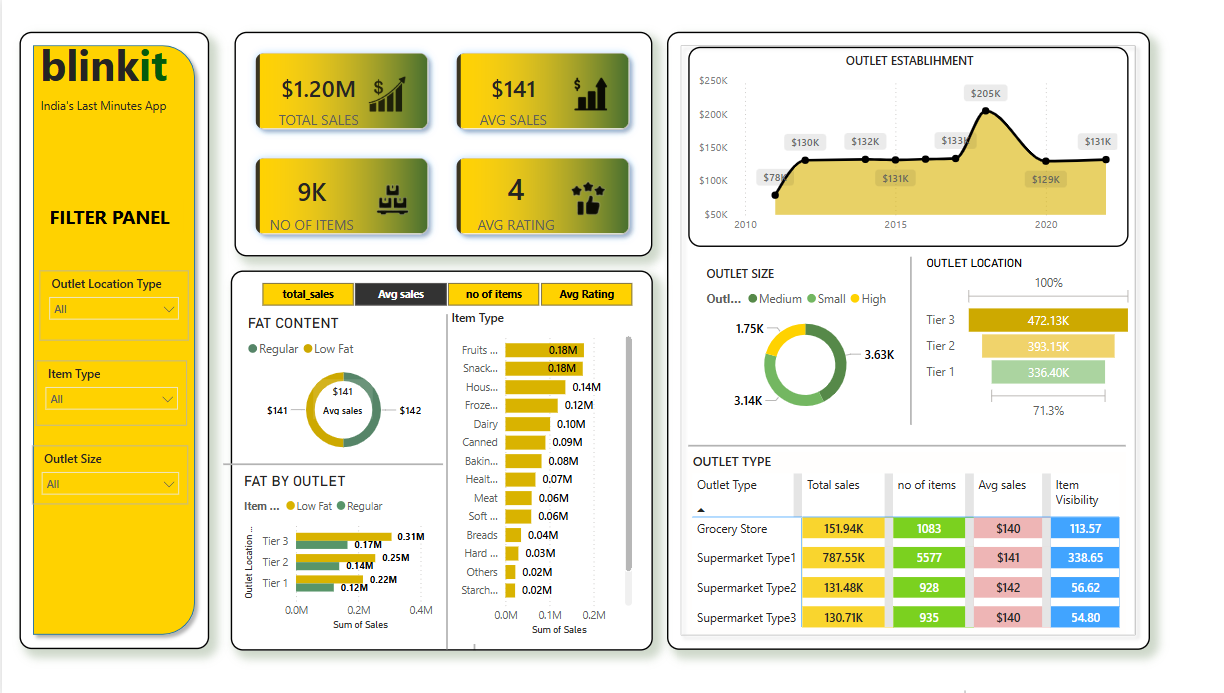

This screenshot's page, from the dashboard's own definition file:
{"tool":"powerbi","page":{"name":"Page 1","canvas":[1400,800],"ordinal":0},"visuals":[{"type":"shape","box":[27.1,38.6,221.4,721.4],"z":0},{"type":"textbox","box":[58.3,38.3,178.3,83.3],"z":1000},{"type":"textbox","box":[40,91.7,196.7,58.3],"z":2000},{"type":"card","fields":{"Values":["BlinkIT Grocery Data.Avg Rating"]},"box":[77.7,308.3,104.6,60.3],"z":3000},{"type":"shape","box":[801.7,791.7,598.3,8.3],"z":4000},{"type":"shape","title":"OUTLET SIZE","box":[801.4,48.6,551.4,697.1],"z":5000},{"type":"lineChart","title":"OUTLET ESTABLIHMENT","fields":{"Category":["BlinkIT Grocery Data.Outlet Establishment Year"],"Y":["BlinkIT Grocery Data.total_sales"]},"box":[837.1,80,500,195.7],"z":6000},{"type":"donutChart","title":"OUTLET SIZE","fields":{"Y":["CountNonNull(BlinkIT Grocery Data.Item Fat Content)"],"Category":["BlinkIT Grocery Data.Outlet Size"]},"box":[837.1,301.4,235.7,180],"z":7000},{"type":"shape","box":[828.6,491.4,500,17.1],"z":8000},{"type":"shape","box":[532.9,368.6,14.3,377.1],"z":9000},{"type":"funnel","title":"OUTLET LOCATION","fields":{"Category":["BlinkIT Grocery Data.Outlet Location Type"],"Y":["Sum(BlinkIT Grocery Data.Sales)"]},"box":[1078.6,274.3,245.7,190],"z":10000},{"type":"slicer","fields":{"Values":["BlinkIT Grocery Data.Outlet Location Type"]},"box":[52.9,311.4,170,80],"z":11000},{"type":"slicer","fields":{"Values":["BlinkIT Grocery Data.Item Type"]},"box":[47.1,414.3,172.9,74.3],"z":12000},{"type":"slicer","fields":{"Values":["BlinkIT Grocery Data.Outlet Size"]},"box":[44.3,525.7,178.6,67.1],"z":13000},{"type":"textbox","box":[40,237.1,187.1,48.6],"z":14000},{"type":"pivotTable","title":"OUTLET TYPE","fields":{"Rows":["BlinkIT Grocery Data.Outlet Type"],"Values":["Sum(BlinkIT Grocery Data.Sales)","BlinkIT Grocery Data.no of items","BlinkIT Grocery Data.Avg sales","Sum(BlinkIT Grocery Data.Item Visibility)"]},"box":[828.6,520,500,208.6],"z":15000},{"type":"shape","box":[261.4,307.1,481.4,438.6],"z":16000},{"type":"slicer","fields":{"Values":["Metrics.Metrics"]},"box":[258.6,307.1,501.4,44.3],"z":17000},{"type":"donutChart","title":"FAT CONTENT","fields":{"Y":["BlinkIT Grocery Data.Avg Rating"],"Category":["BlinkIT Grocery Data.Item Fat Content"]},"box":[272.9,350,230,170],"z":18000},{"type":"clusteredBarChart","title":"FAT BY OUTLET","fields":{"Category":["BlinkIT Grocery Data.Outlet Location Type"],"Y":["Sum(BlinkIT Grocery Data.Sales)"],"Series":["BlinkIT Grocery Data.Item Fat Content"]},"box":[272.9,574.3,230,185.7],"z":19000},{"type":"barChart","title":" Item Type","fields":{"Category":["BlinkIT Grocery Data.Item Type"],"Y":["Sum(BlinkIT Grocery Data.Sales)"]},"box":[508.6,351.4,217.1,377.1],"z":20000},{"type":"shape","box":[1072.9,298.6,4.3,192.9],"z":21000},{"type":"shape","box":[504.3,361.4,8.6,382.9],"z":22000},{"type":"shape","box":[252.9,525.7,251.4,14.3],"z":23000},{"type":"cardVisual","fields":{"Data":["BlinkIT Grocery Data.total_sales","BlinkIT Grocery Data.Avg sales","BlinkIT Grocery Data.no of items","BlinkIT Grocery Data.Avg Rating"]},"box":[265.7,48.6,477.1,250],"z":24000}]}

Visuals, with their boxes in screenshot pixels (x1, y1, x2, y2), scaled from the page's 1400x800 canvas onto the 1224x693 screenshot:
shape: region(24, 33, 217, 658)
textbox: region(51, 33, 207, 105)
textbox: region(35, 79, 207, 130)
card - BlinkIT Grocery Data.Avg Rating: region(68, 267, 159, 319)
shape: region(701, 686, 1223, 692)
"OUTLET SIZE" shape: region(701, 42, 1183, 646)
"OUTLET ESTABLIHMENT" lineChart: region(732, 69, 1169, 239)
"OUTLET SIZE" donutChart: region(732, 261, 938, 417)
shape: region(724, 426, 1162, 440)
shape: region(466, 319, 478, 646)
"OUTLET LOCATION" funnel: region(943, 238, 1158, 402)
slicer - BlinkIT Grocery Data.Outlet Location Type: region(46, 270, 195, 339)
slicer - BlinkIT Grocery Data.Item Type: region(41, 359, 192, 423)
slicer - BlinkIT Grocery Data.Outlet Size: region(39, 455, 195, 514)
textbox: region(35, 205, 199, 247)
"OUTLET TYPE" pivotTable: region(724, 450, 1162, 631)
shape: region(229, 266, 649, 646)
slicer - Metrics.Metrics: region(226, 266, 664, 304)
"FAT CONTENT" donutChart: region(239, 303, 440, 450)
"FAT BY OUTLET" clusteredBarChart: region(239, 497, 440, 658)
" Item Type" barChart: region(445, 304, 634, 631)
shape: region(938, 259, 942, 426)
shape: region(441, 313, 448, 645)
shape: region(221, 455, 441, 468)
cardVisual - BlinkIT Grocery Data.total_sales x BlinkIT Grocery Data.Avg sales: region(232, 42, 649, 259)
